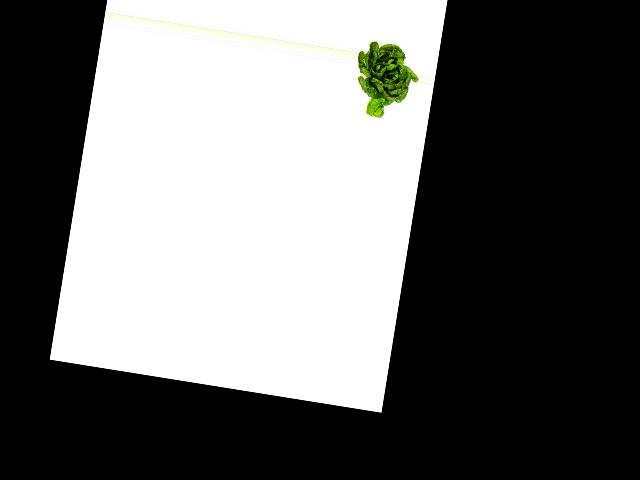lettuce: (350, 38, 423, 125)
